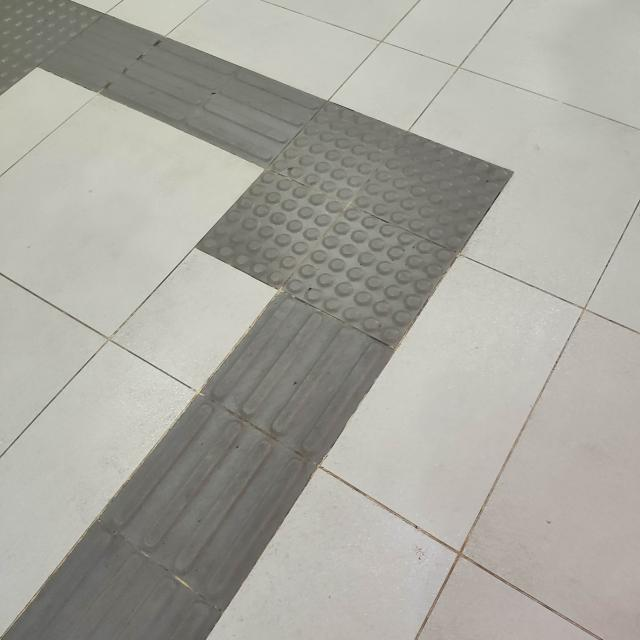kiri: (112, 0, 528, 428)
